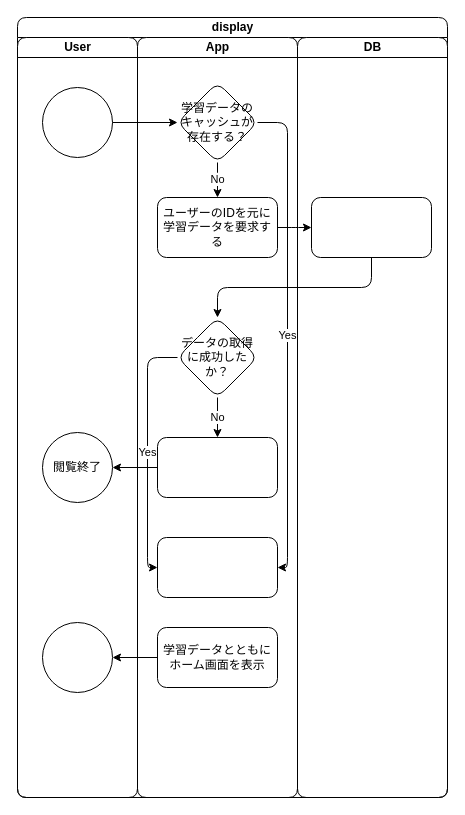
The diagram is 465 pixels wide and 815 high, and some of its shapes have lost their labels. Here are the shapes that lost their labels. From the top down, the centre of each, then its label:
the point at 77,122: ホーム画面を開く
the point at 371,227: 学習データを検索し返す
the point at 217,467: エラーメッセージとともにホーム画面を表示
the point at 217,567: データを読み込む
the point at 77,657: 閲覧
